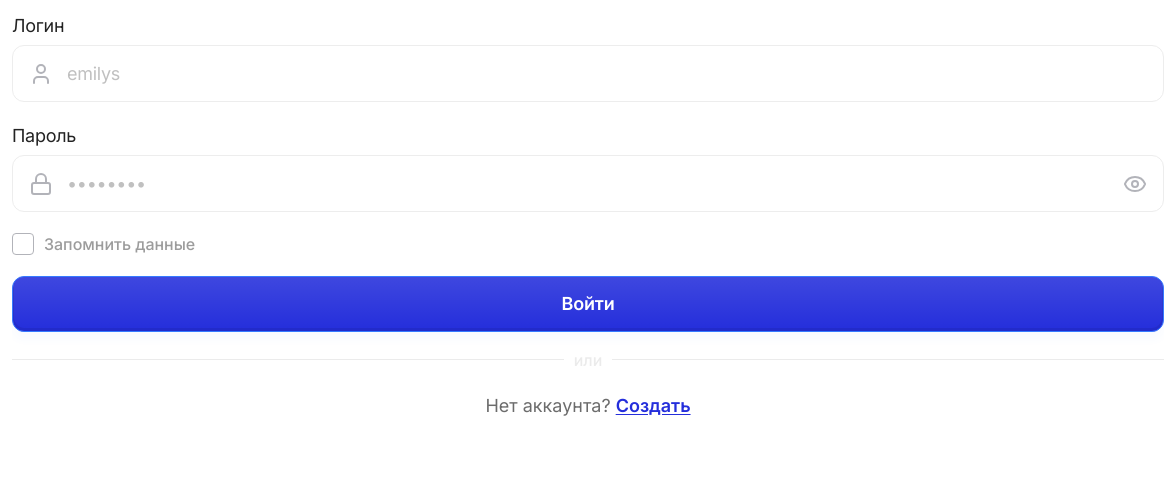
it: LoginForm › shows required field errors when submitted empty
The image size is (1176, 477).
Click the button "Войти" at (588,304), box [12,276,1164,332]
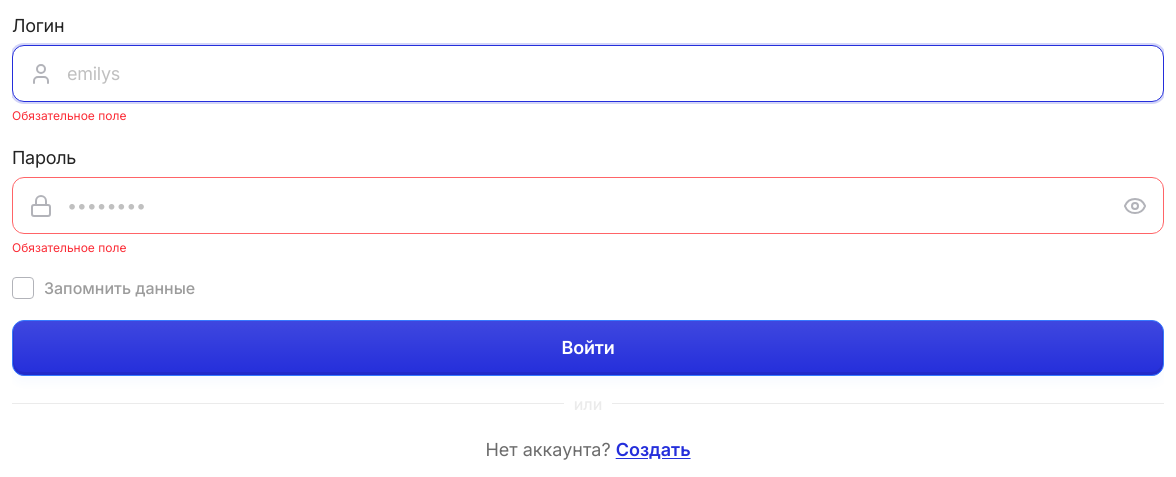
Now the text "Обязательное поле" is shown 2 times, box [12,108,126,123]; [12,240,126,255]
